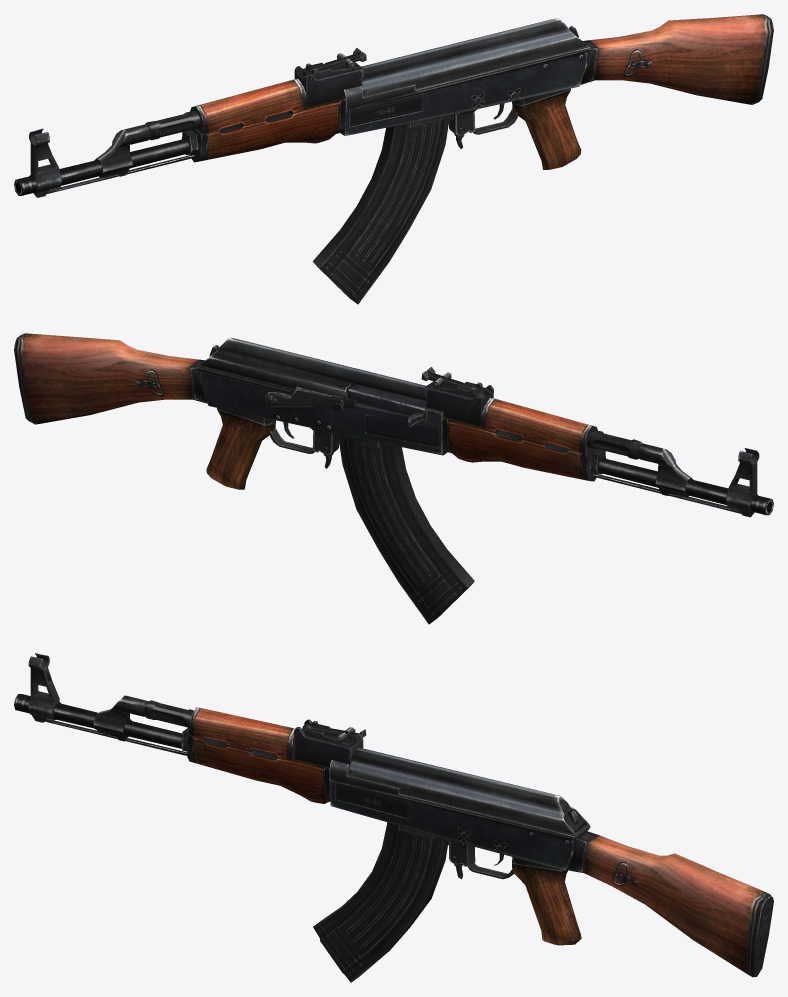
The model's file is gun_ak47.glb.
3 renders of one model, top to bottom at view 1: azimuth 30°, elevation 25°; view 2: azimuth 150°, elevation 25°; view 3: azimuth 330°, elevation 25°, orthographic.
Parts seen in each view (by area): view 1: Model; view 2: Model; view 3: Model.
Part boxes in pixels (bbox=[...]): Model: bbox=[14, 14, 773, 304]; Model: bbox=[14, 333, 773, 624]; Model: bbox=[14, 653, 773, 982].
Bounding box in the file's own units: 0.88 × 0.2796 × 0.0551.
1 material, 1 textured.
